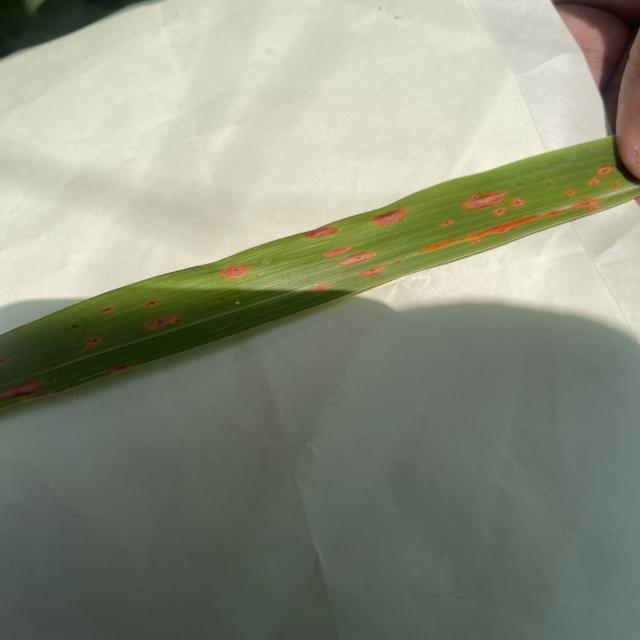millet_rust: (0, 136, 618, 394)
